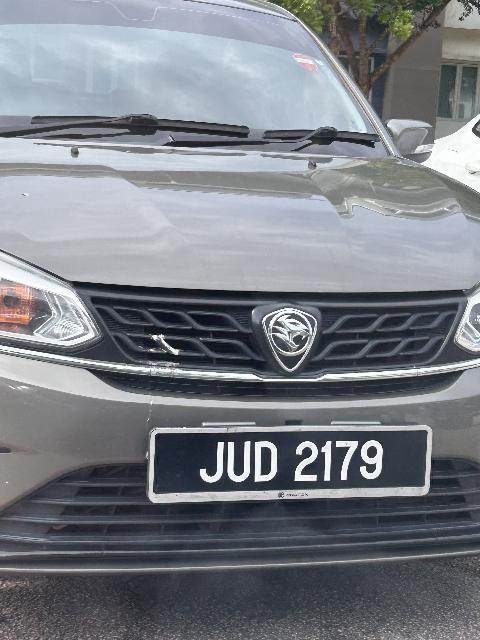JUD2179: (155, 426, 433, 500)
License_Plate: (155, 426, 433, 500)
car: (1, 1, 480, 640)
